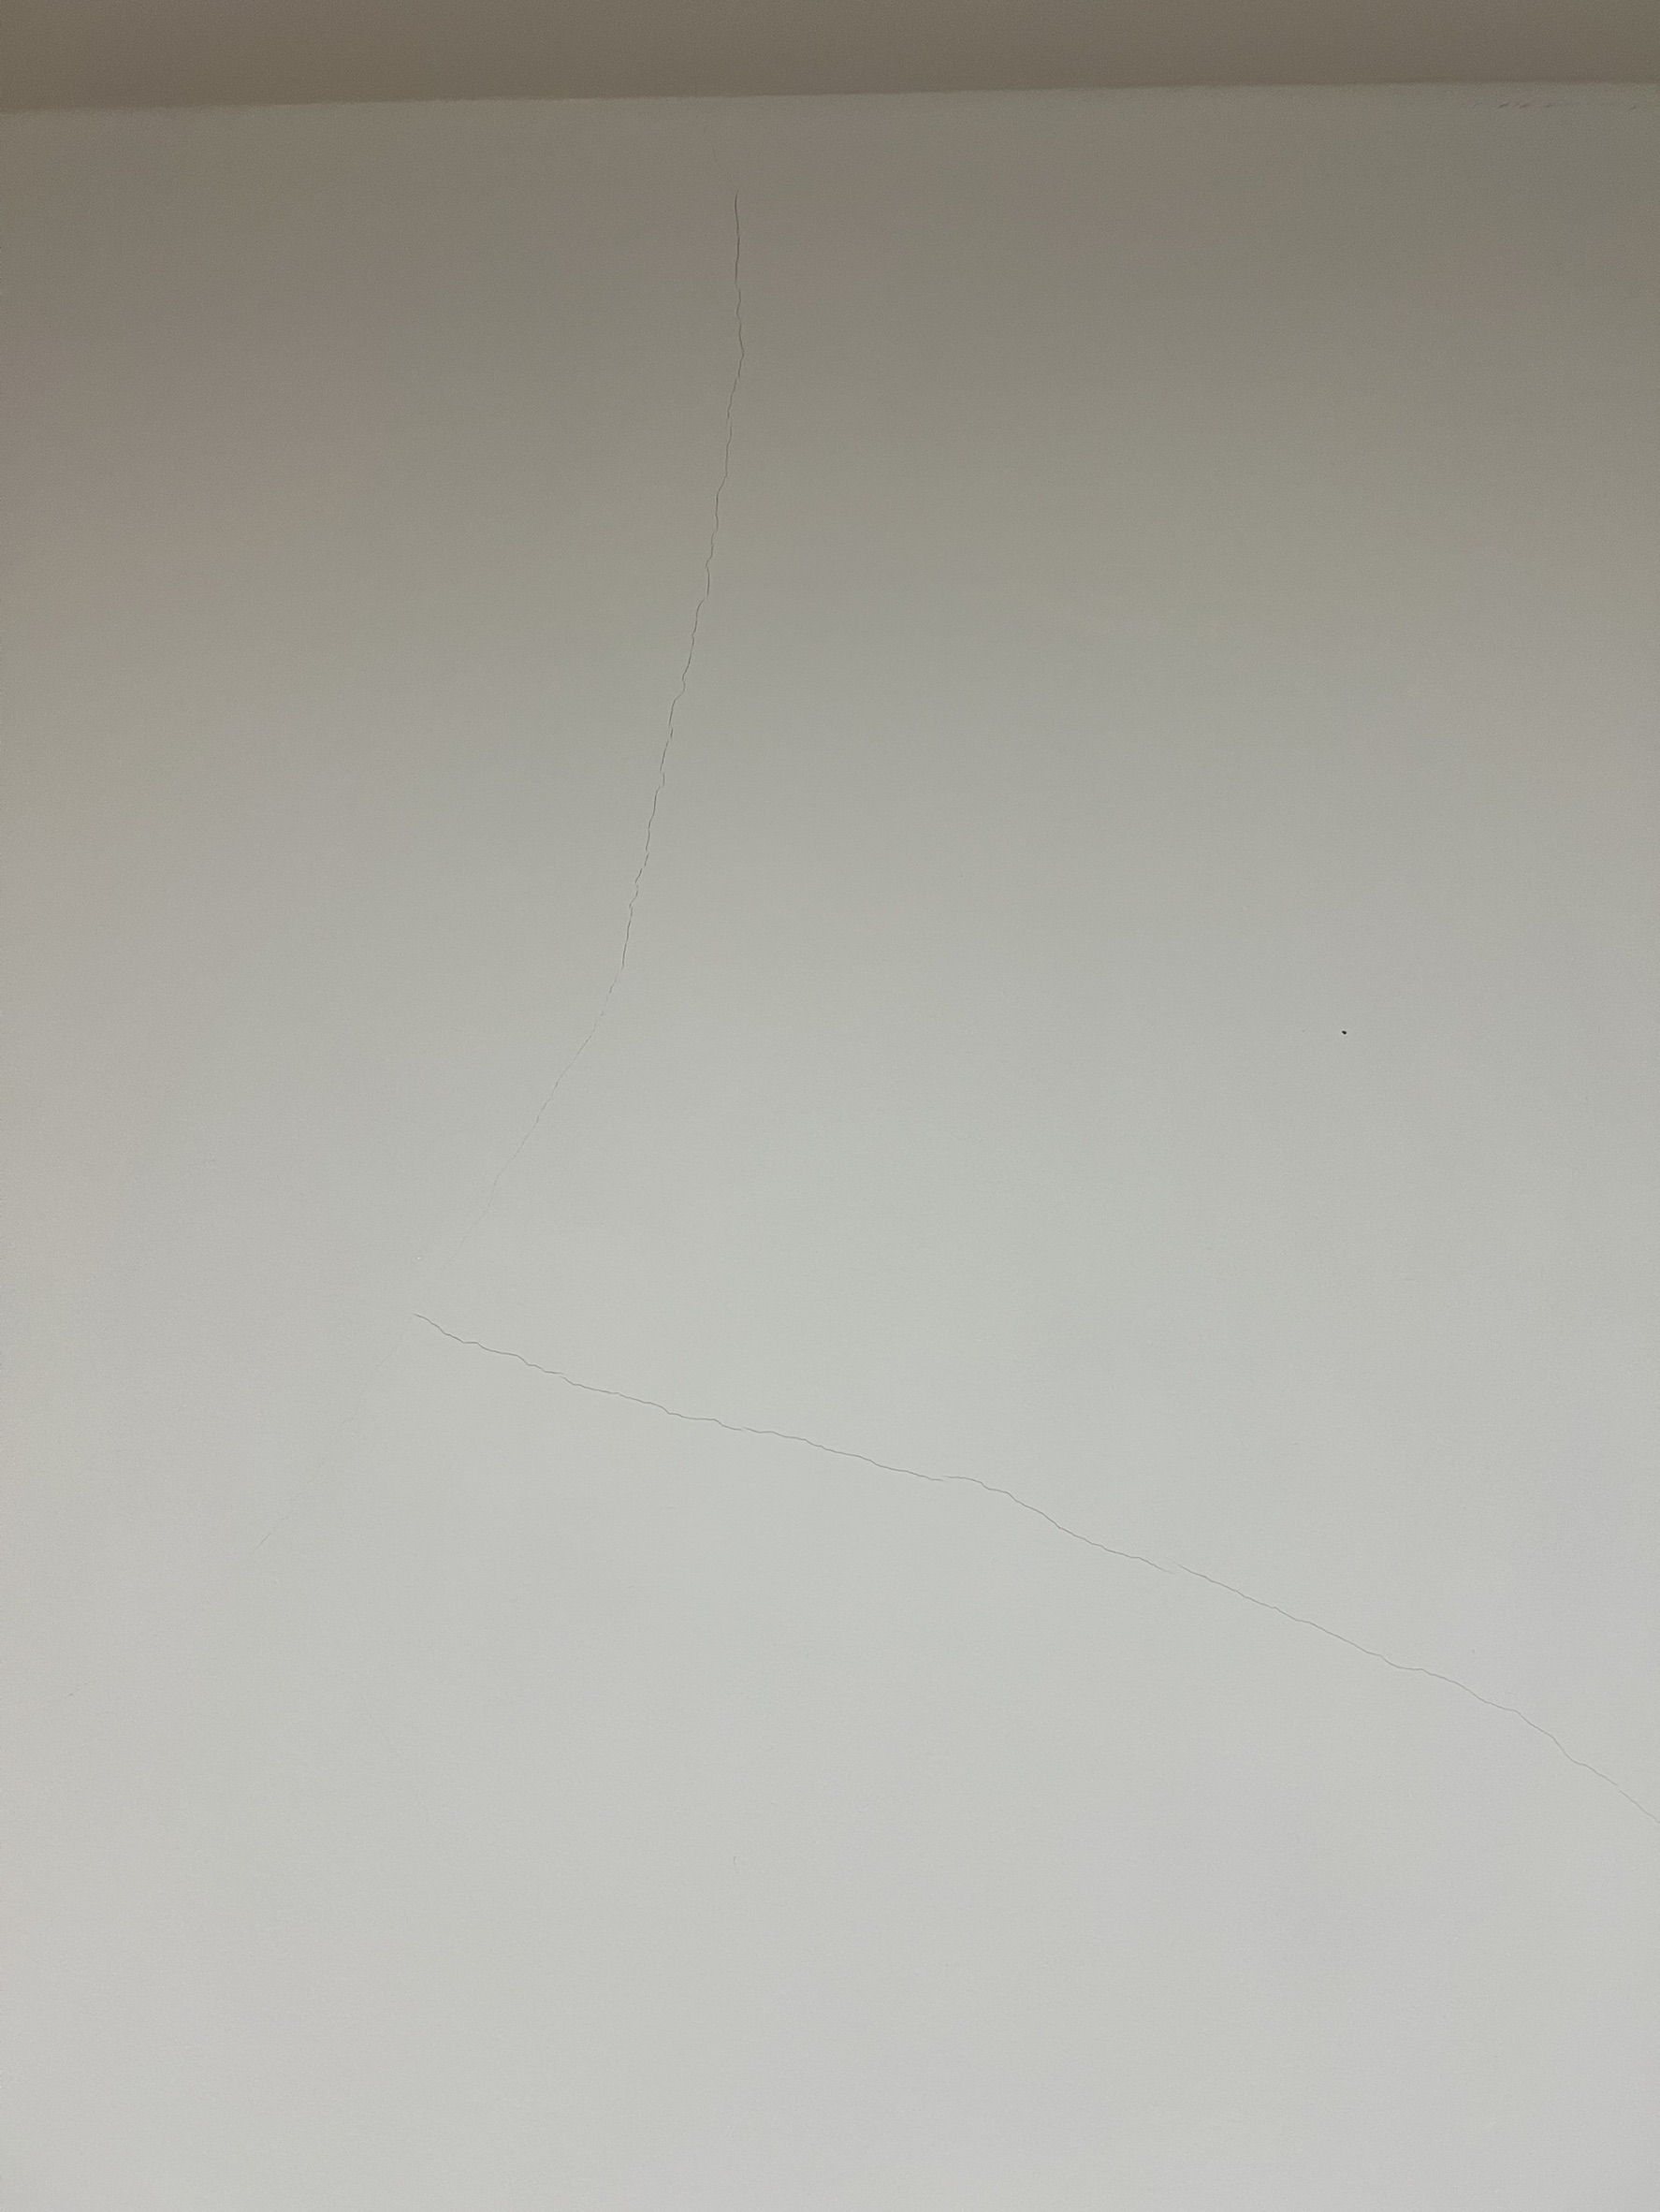Low: (373, 173, 1660, 1900)
